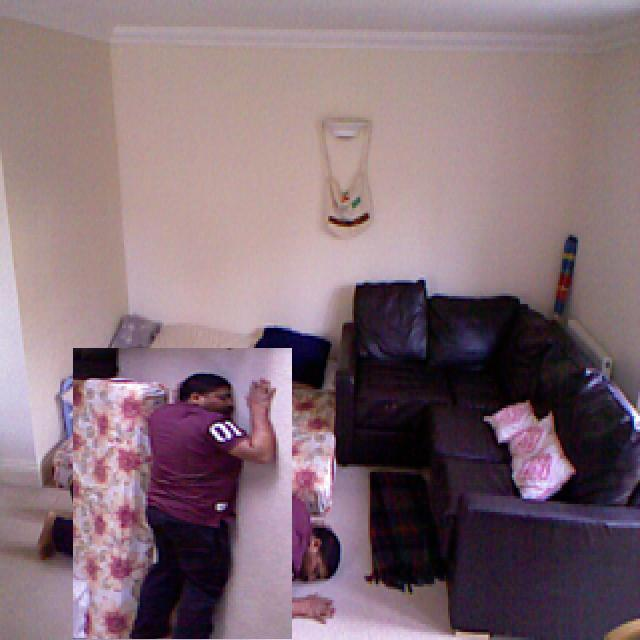Fall: (69, 353, 294, 640)
